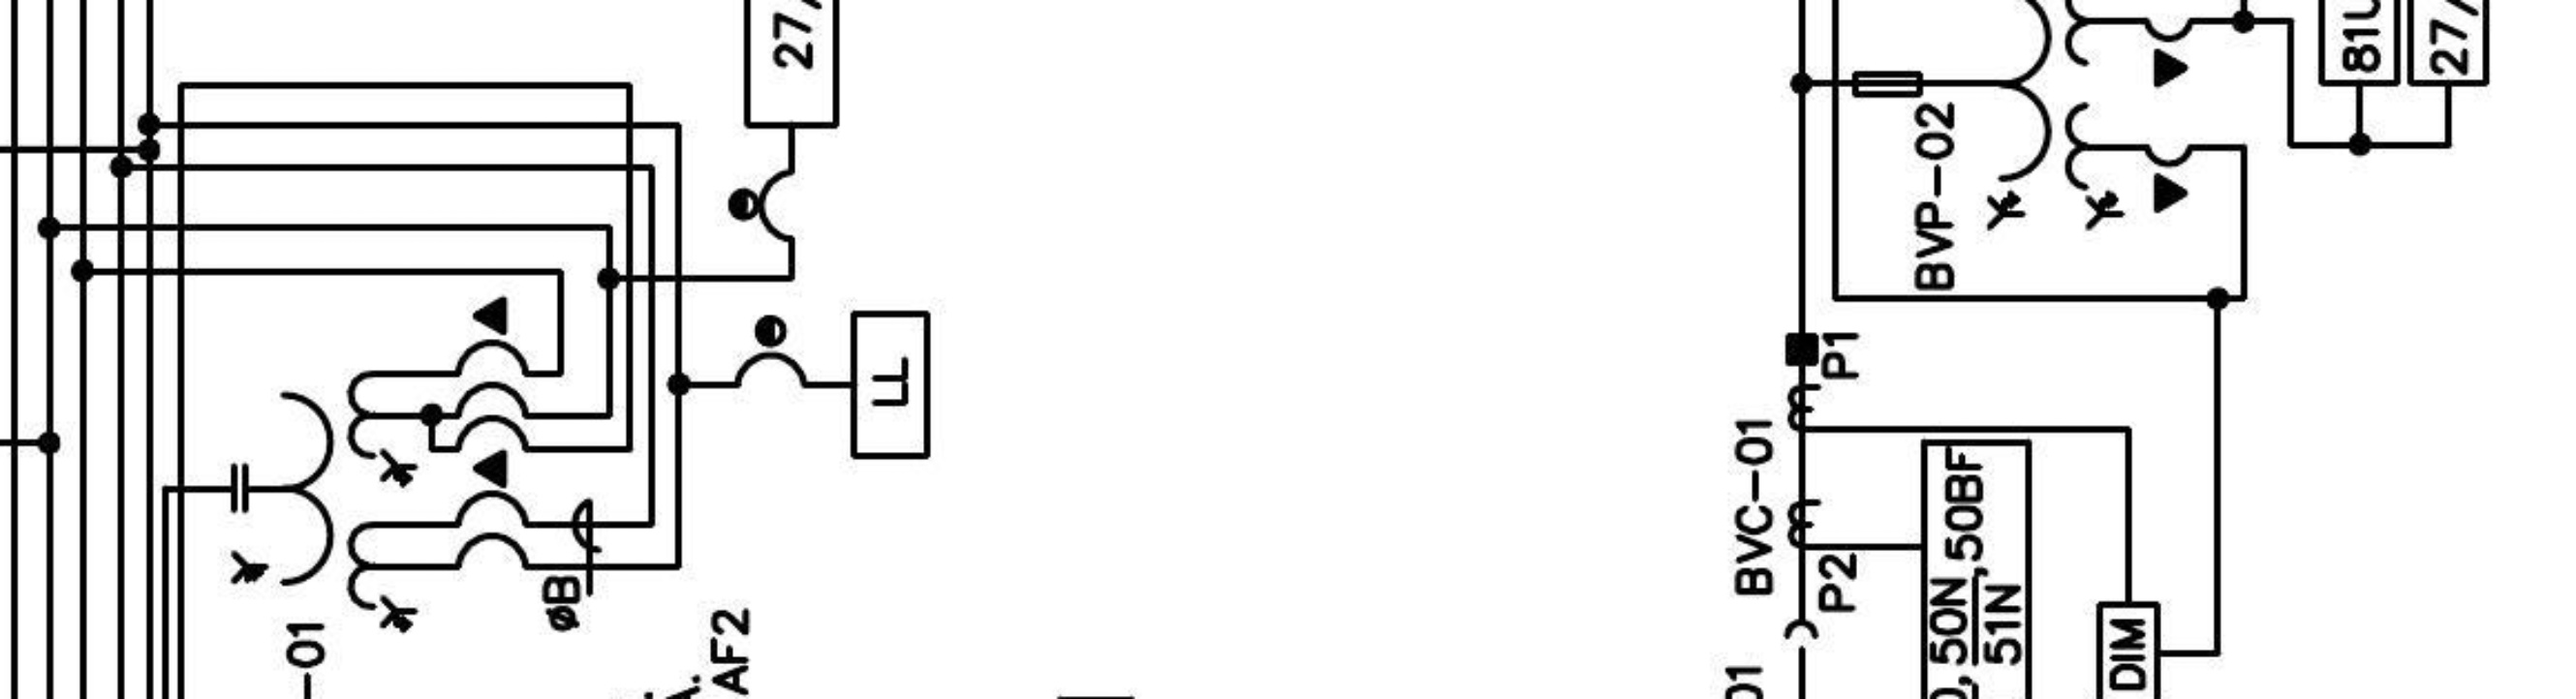115_cvt_3p: (230, 369, 421, 635)
LL: (849, 310, 931, 459)
